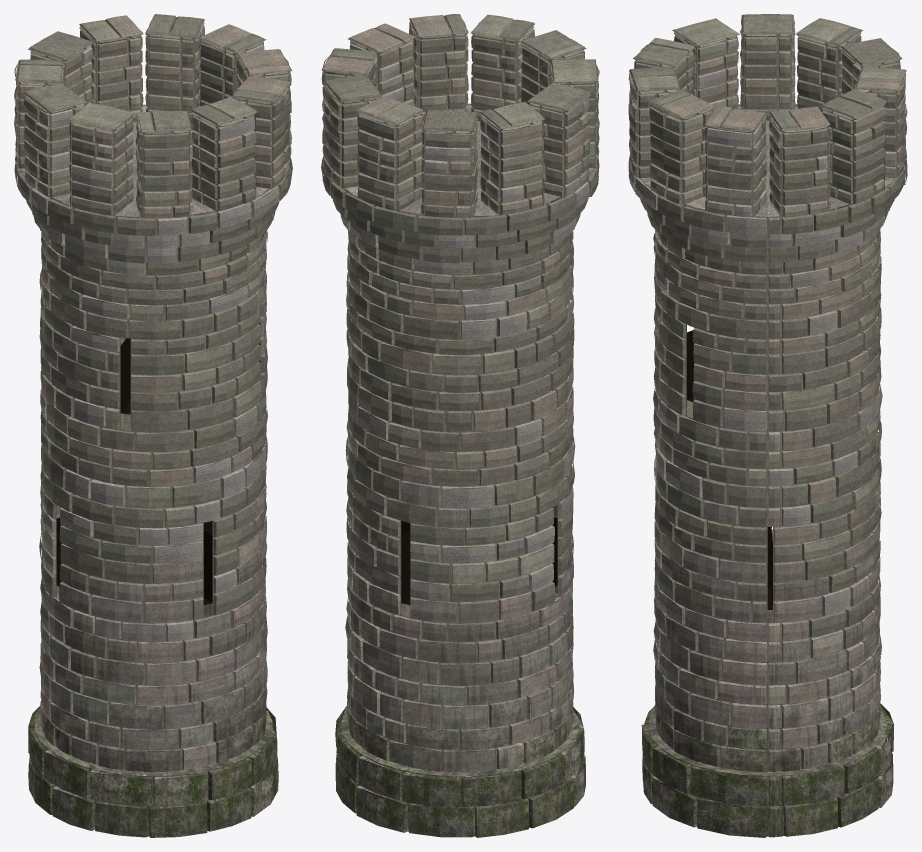
Rendered from town_tower_round.glb.
3 renders of one model, left to right at view 1: azimuth 30°, elevation 25°; view 2: azimuth 150°, elevation 25°; view 3: azimuth 270°, elevation 25°, orthographic.
Visible parts, largest first — view 1: town_tower_round; view 2: town_tower_round; view 3: town_tower_round.
Part boxes in pixels (left/top/right/bottom): town_tower_round: left=14, top=14, right=292, bottom=837; town_tower_round: left=321, top=14, right=599, bottom=837; town_tower_round: left=628, top=14, right=907, bottom=837.
Size of the model in its own units: 3.75 by 10.65 by 3.76.
Materials: 3 (3 with a texture image).
